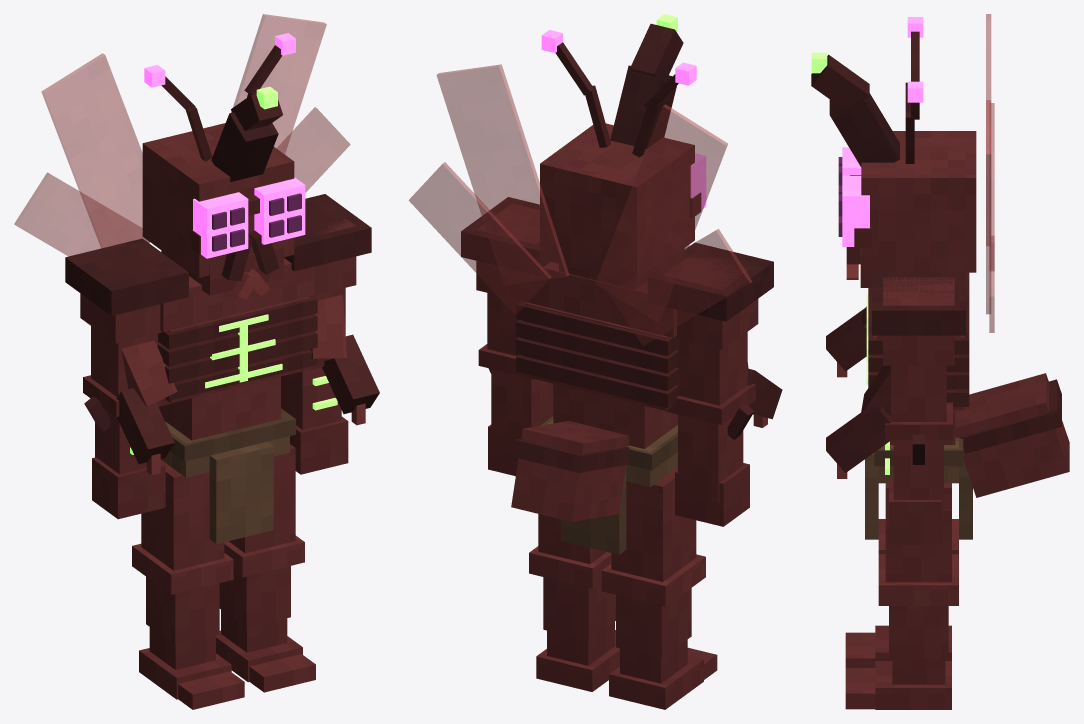
Rendered from insectoid_base_v2_evo2.glb.
3 renders of one model, left to right at view 1: azimuth 30°, elevation 25°; view 2: azimuth 150°, elevation 25°; view 3: azimuth 270°, elevation 25°, orthographic. The views are drawn at different scales.
Parts seen in each view (by area): view 1: Torso, Head, LegR, ArmR, LegL, ArmL; view 2: Torso, Head, ArmR, LegR, ArmL, LegL; view 3: Head, Torso, ArmL, LegL, LegR.
Part boxes in pixels (x1,y1,x2,y2): Torso: (14, 14, 379, 543); Head: (142, 33, 305, 299); LegR: (132, 460, 244, 709); ArmR: (65, 238, 188, 519); LegL: (216, 444, 315, 692); ArmL: (281, 194, 371, 474); Torso: (409, 64, 782, 554); Head: (540, 14, 706, 289); ArmR: (648, 242, 773, 526); LegR: (601, 467, 717, 709); ArmL: (461, 197, 553, 476); LegL: (529, 514, 619, 691); Head: (811, 17, 976, 287); Torso: (826, 14, 1069, 539); ArmL: (872, 272, 965, 544); LegL: (845, 483, 958, 709); LegR: (845, 519, 958, 667).
Size of the model in its own units: 1.12 by 1.98 by 0.7413.
Materials: 25 (25 with a texture image).
